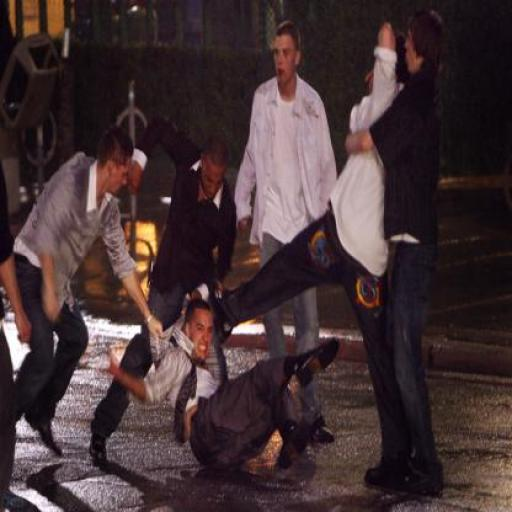Fighting: (12, 16, 446, 503)
